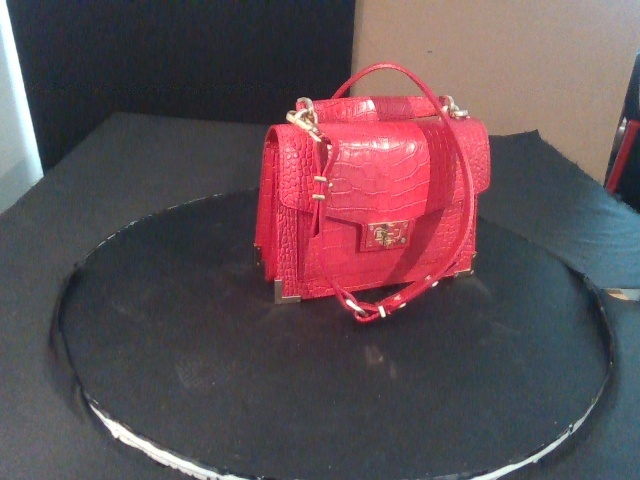bag: (256, 96, 493, 306)
